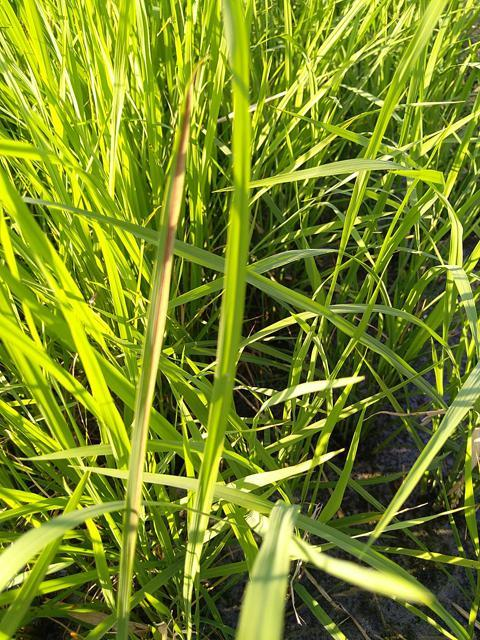Leaf Streak: (124, 88, 192, 619)
